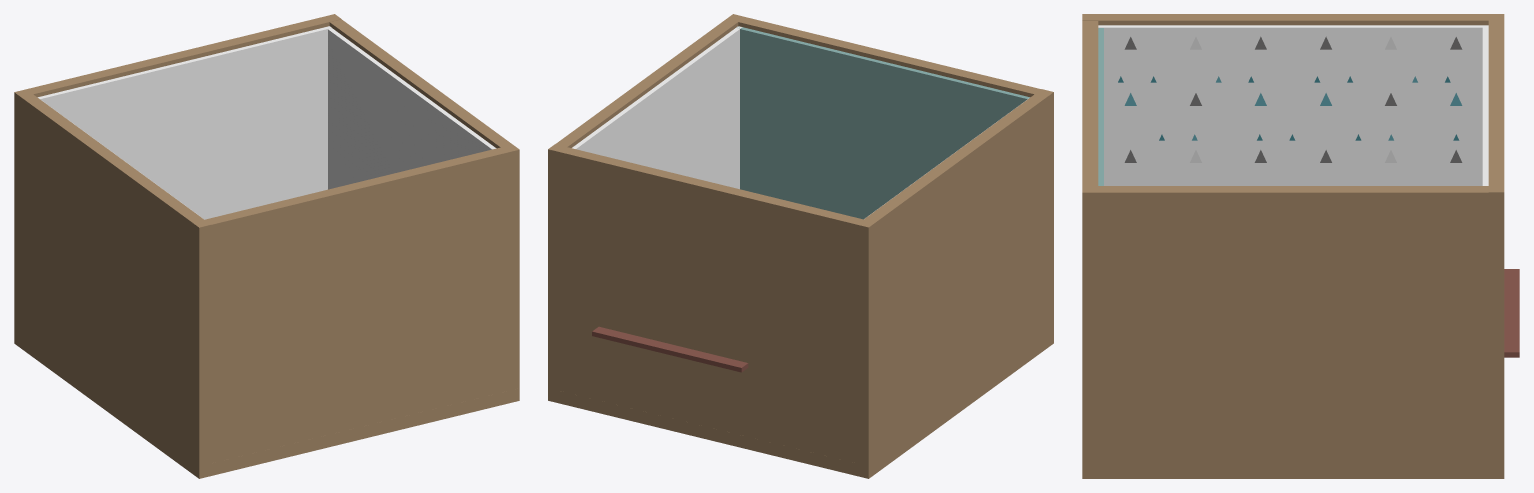
The model's file is Furn5_wall_floor_color2.fbx.
The picture shows the model from 3 angles, left to right: view 1: azimuth 30°, elevation 25°; view 2: azimuth 150°, elevation 25°; view 3: azimuth 270°, elevation 25°; orthographic projection. The views are drawn at different scales.
Visible parts, largest first — view 1: Куб.334, Куб.331, Куб.330; view 2: Куб.331, Куб.334, Куб.330, Куб.333; view 3: Куб.334, Куб.331, Куб.330, Окружность.100, Куб.333.
Part boxes in pixels (box(x1,y1,x2,y2)): Куб.334: box(192, 19, 519, 469); Куб.331: box(14, 14, 341, 469); Куб.330: box(14, 334, 519, 478); Куб.331: box(548, 89, 1053, 469); Куб.334: box(548, 14, 1053, 394); Куб.330: box(548, 334, 1053, 478); Куб.333: box(592, 326, 748, 372); Куб.334: box(1082, 21, 1488, 468); Куб.331: box(1082, 14, 1504, 468); Куб.330: box(1082, 468, 1504, 478); Окружность.100: box(1118, 36, 1462, 162); Куб.333: box(1504, 269, 1519, 357).
Bounding box in the file's own units: 911 × 682 × 943.
